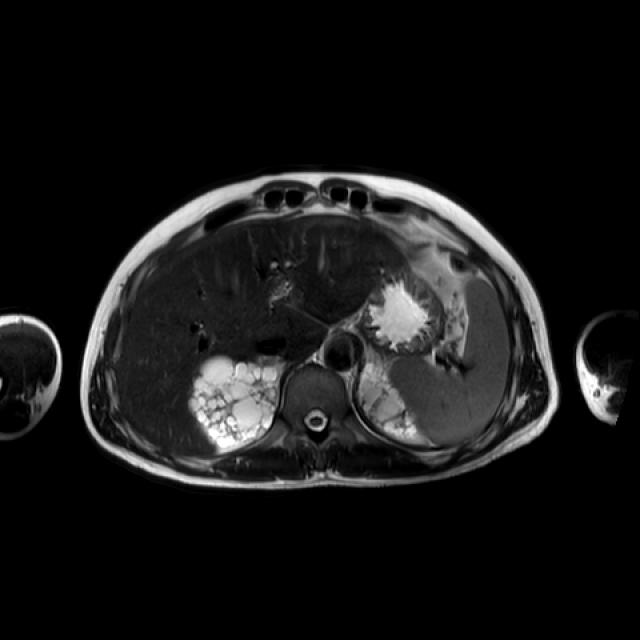sag: (190, 356, 279, 451)
sol: (361, 363, 419, 442)
